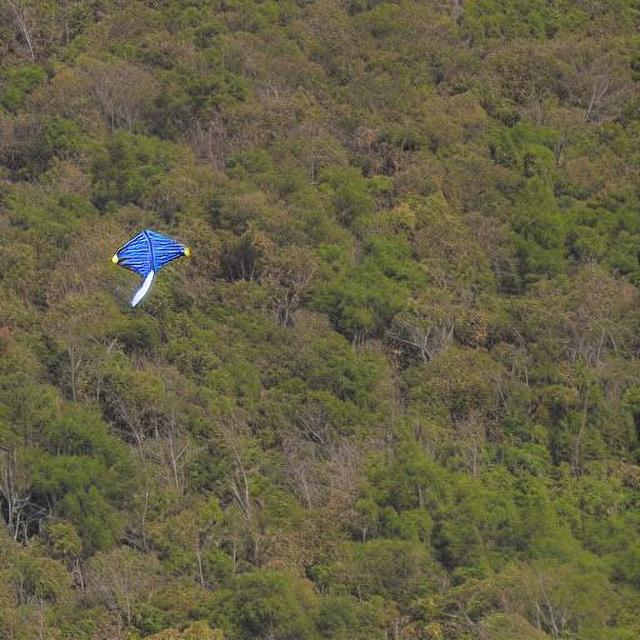floating object: (112, 229, 191, 303)
